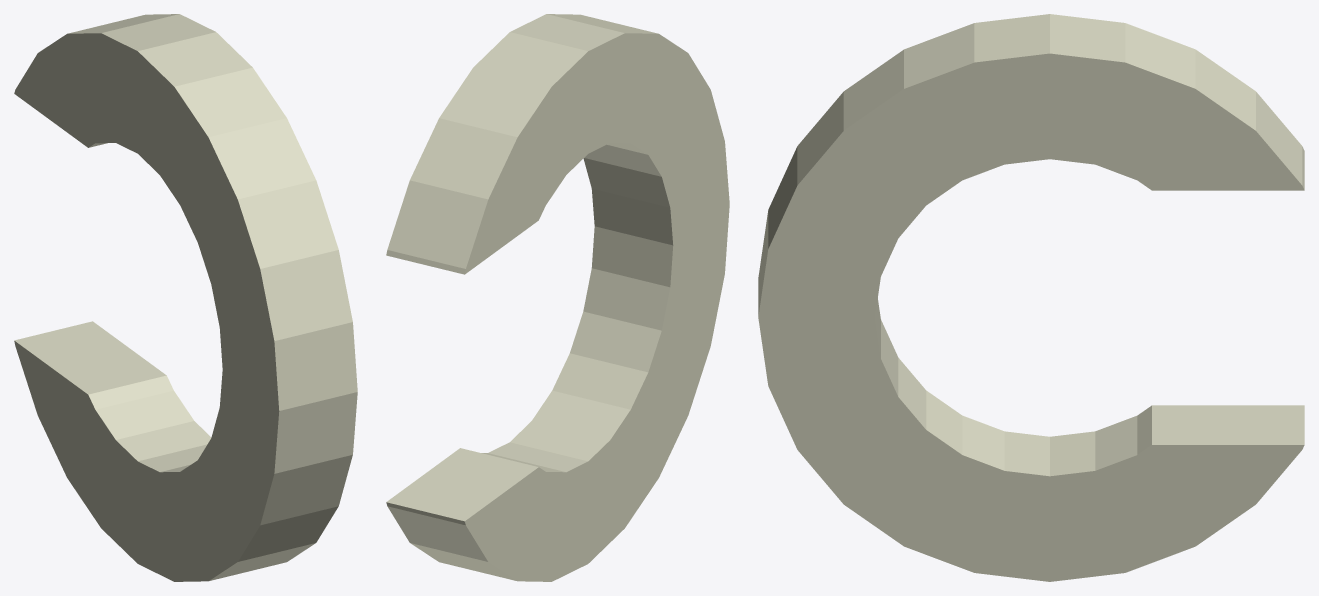
File: section_306.obj
3 views of the same model, side by side, from view 1: azimuth 30°, elevation 25°; view 2: azimuth 150°, elevation 25°; view 3: azimuth 270°, elevation 25° (orthographic). The views are drawn at different scales.
Size of the model in its own units: 1.6 by 10 by 9.37.
